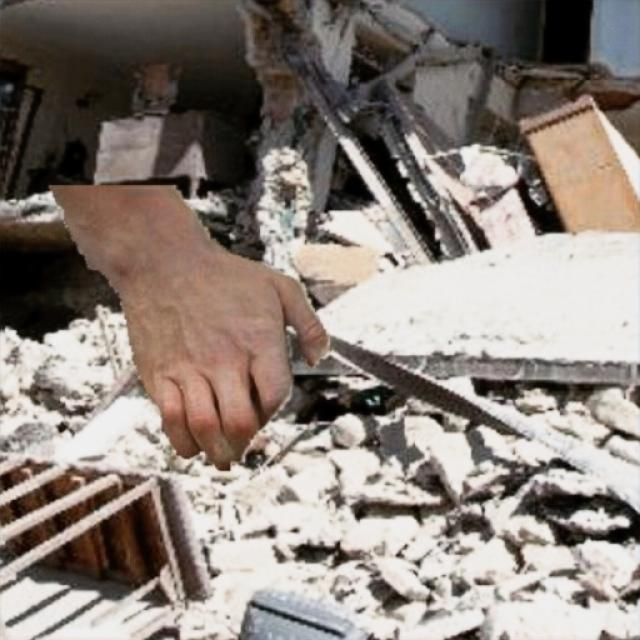Person in Rubble: (49, 185, 330, 470)
